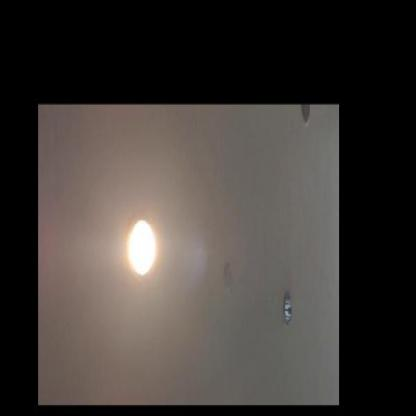light_on: (117, 207, 132, 279)
